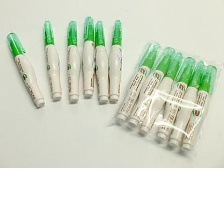correction_fluid: (125, 45, 177, 130), (114, 41, 163, 124), (137, 49, 183, 137), (165, 56, 208, 149), (154, 53, 198, 143), (178, 62, 218, 153), (4, 30, 44, 109), (41, 19, 63, 102), (63, 19, 83, 103), (105, 17, 124, 103), (92, 18, 110, 105), (81, 15, 96, 99)
